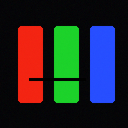3 line_h: (29, 78, 85, 80)
